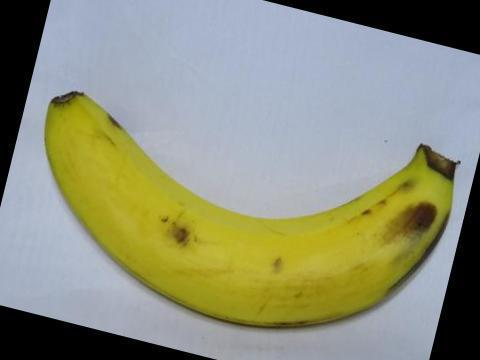freshripe: (36, 79, 457, 346)
